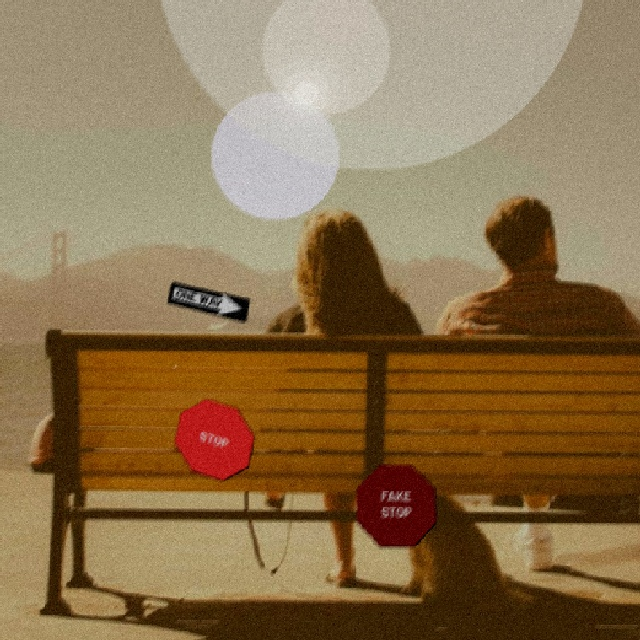FAKE_STOP: (354, 466, 435, 549)
ONE_WAY_ right: (165, 283, 248, 324)
STOP: (172, 400, 253, 483)
